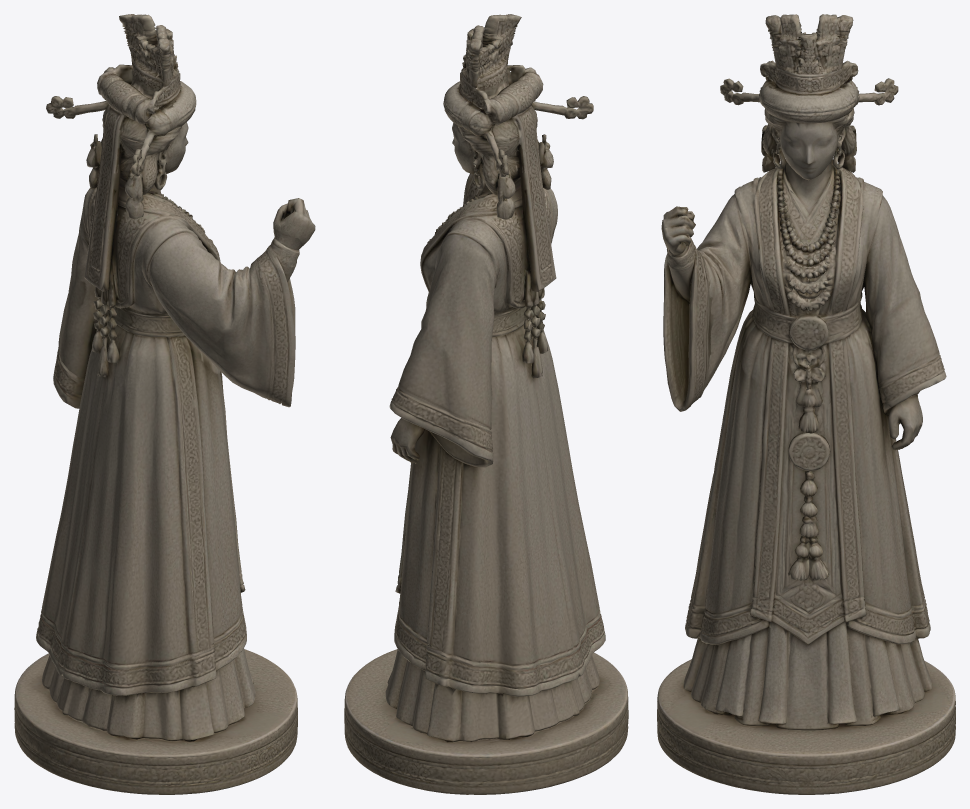
File: ancient_ceremonial_statue_3d_model.fbx
3 renders of one model, left to right at view 1: azimuth 30°, elevation 25°; view 2: azimuth 150°, elevation 25°; view 3: azimuth 270°, elevation 25°, orthographic.
Parts seen in each view (by area): view 1: tripo_node_9924c8d4; view 2: tripo_node_9924c8d4; view 3: tripo_node_9924c8d4.
Boxes of the visible parts, bbox=[...] form: tripo_node_9924c8d4: bbox=[14, 14, 315, 794]; tripo_node_9924c8d4: bbox=[344, 14, 628, 794]; tripo_node_9924c8d4: bbox=[657, 14, 955, 794].
Bounding box in the file's own units: 0.3498 × 0.9803 × 0.3681.
